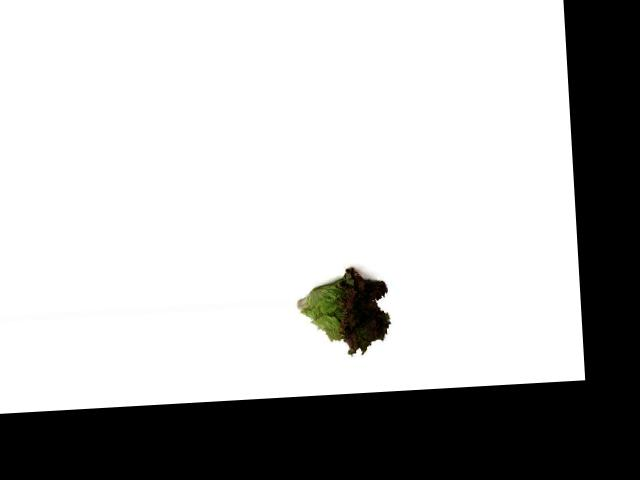lettuce: (292, 256, 404, 362)
